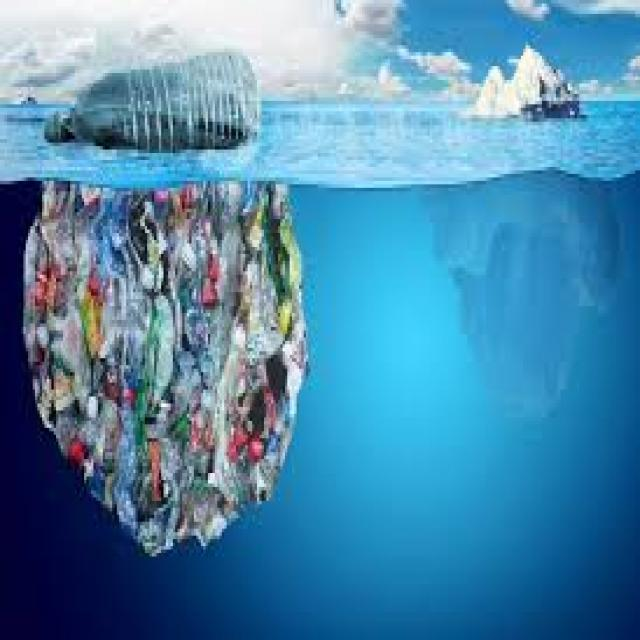heap: (48, 195, 288, 463)
